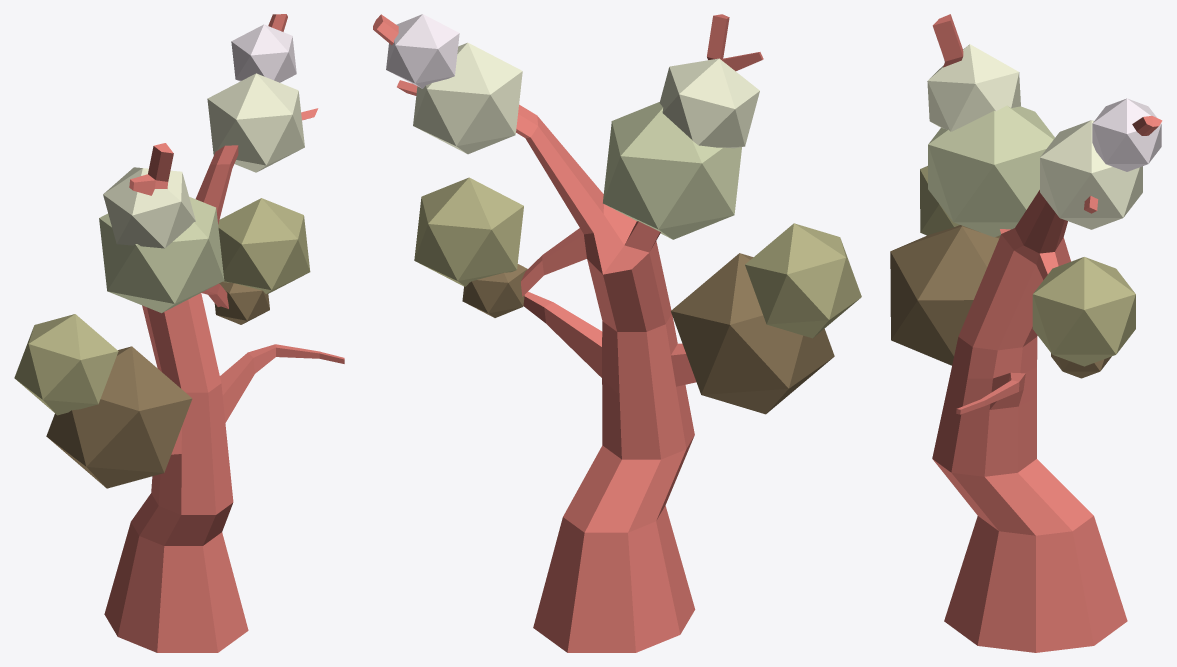
The model's file is 01_04Tree_Brown.fbx.
The picture shows the model from 3 angles, left to right: view 1: azimuth 30°, elevation 25°; view 2: azimuth 150°, elevation 25°; view 3: azimuth 270°, elevation 25°; orthographic projection. The views are drawn at different scales.
Parts seen in each view (by area): view 1: Cube.014; view 2: Cube.014; view 3: Cube.014.
Part boxes in pixels (x1=…): Cube.014: x1=14, y1=14, x2=344, y2=652; Cube.014: x1=373, y1=14, x2=861, y2=652; Cube.014: x1=890, y1=14, x2=1162, y2=652.
Bounding box in the file's own units: 168 × 251 × 104.
